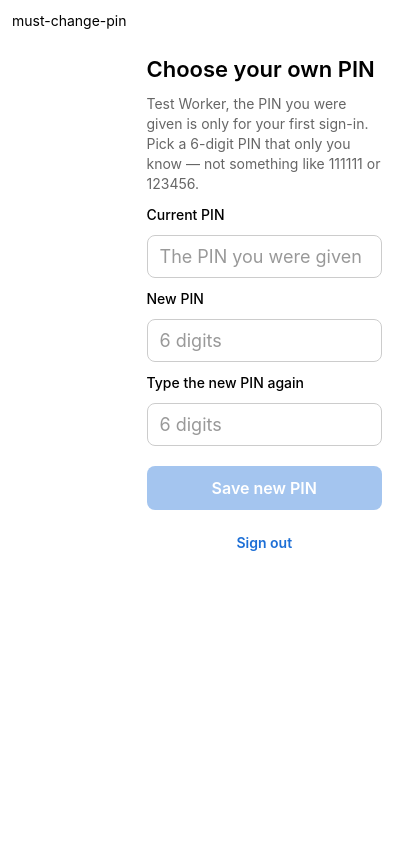
Test: ChangePinScreen › 503 is an amber 'try again shortly' notice
Expected: the text "Choose your own PIN" is shown, [146,56,382,82]
Type "482913" into the password field with placeholder "The PIN you were given" at (264, 256), box [146,235,382,278]
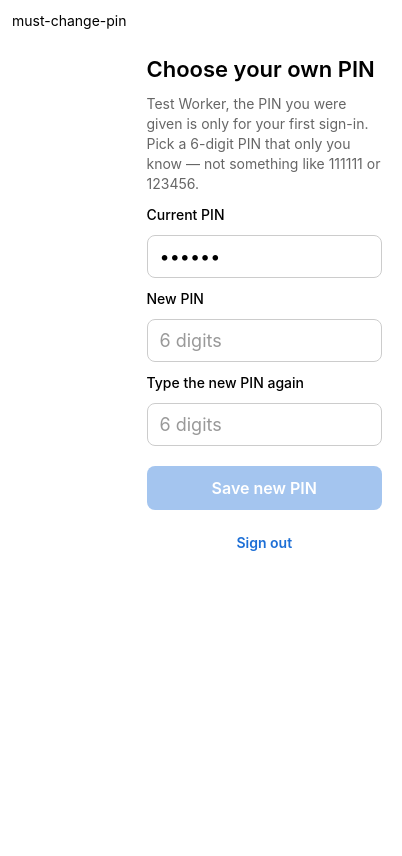
Type "730154" into the 1st password field with placeholder "6 digits" at (264, 340), box [146,319,382,362]
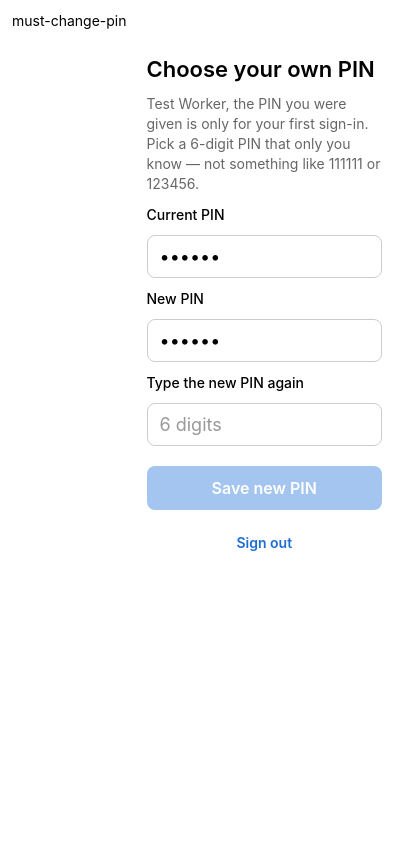
Type "730154" into the password field with placeholder "6 digits" at (264, 424), box [146,403,382,446]
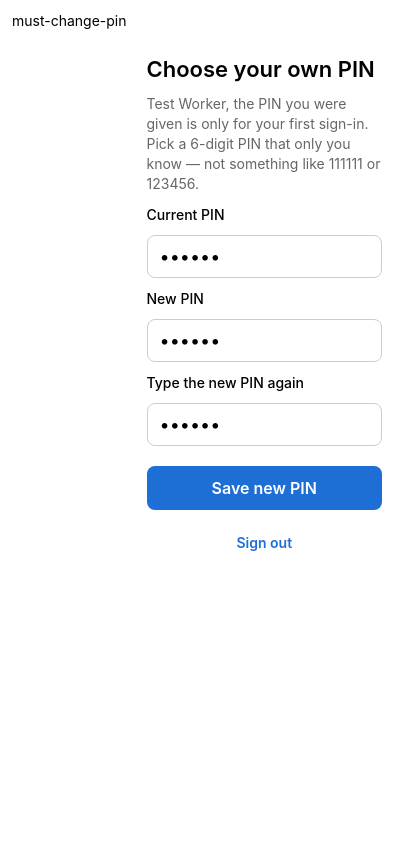
Click the button "Save new PIN" at (264, 488), box [146,466,382,510]
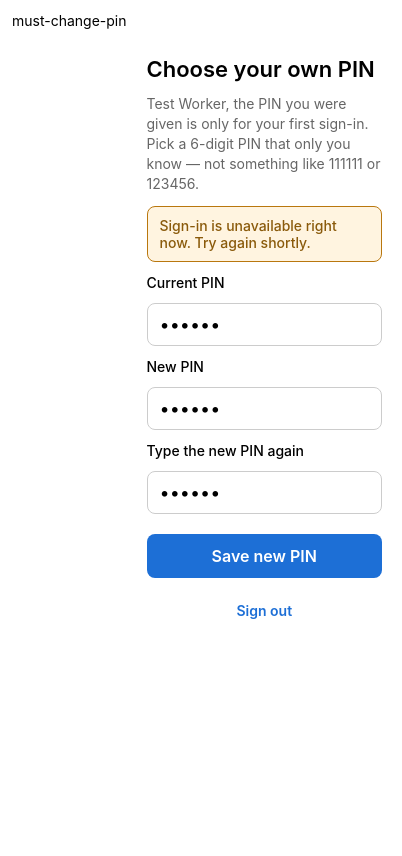
Result: the element with test id "problem-notice" is shown at [146,206,382,262]
Result: the text "Sign-in is unavailable right now. Try again shortly." is shown at [160,217,369,251]
